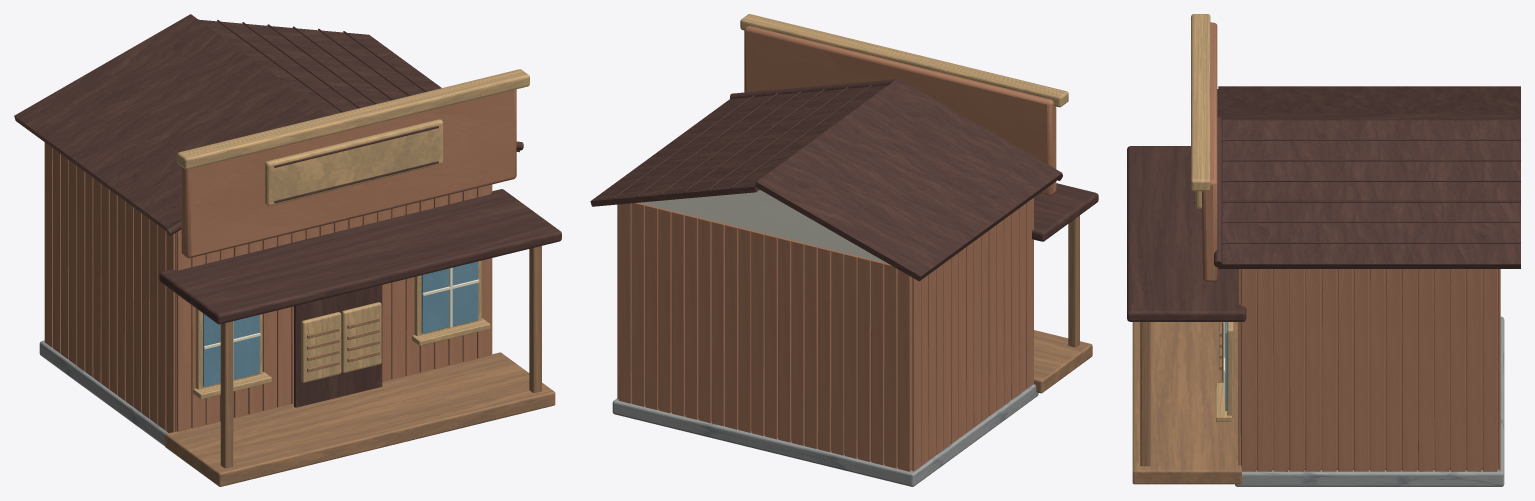
Rendered from house_3.glb.
3 views of the same model, side by side, from view 1: azimuth 30°, elevation 25°; view 2: azimuth 150°, elevation 25°; view 3: azimuth 270°, elevation 25° (orthographic). The views are drawn at different scales.
Visible parts, largest first — view 1: house_3; view 2: house_3; view 3: house_3.
Part boxes in pixels (bbox=[...]): house_3: bbox=[14, 14, 561, 486]; house_3: bbox=[590, 14, 1098, 486]; house_3: bbox=[1127, 14, 1520, 486].
Bounding box in the file's own units: 6.35 × 5.35 × 6.11.
Materials: 2 (2 with a texture image).
